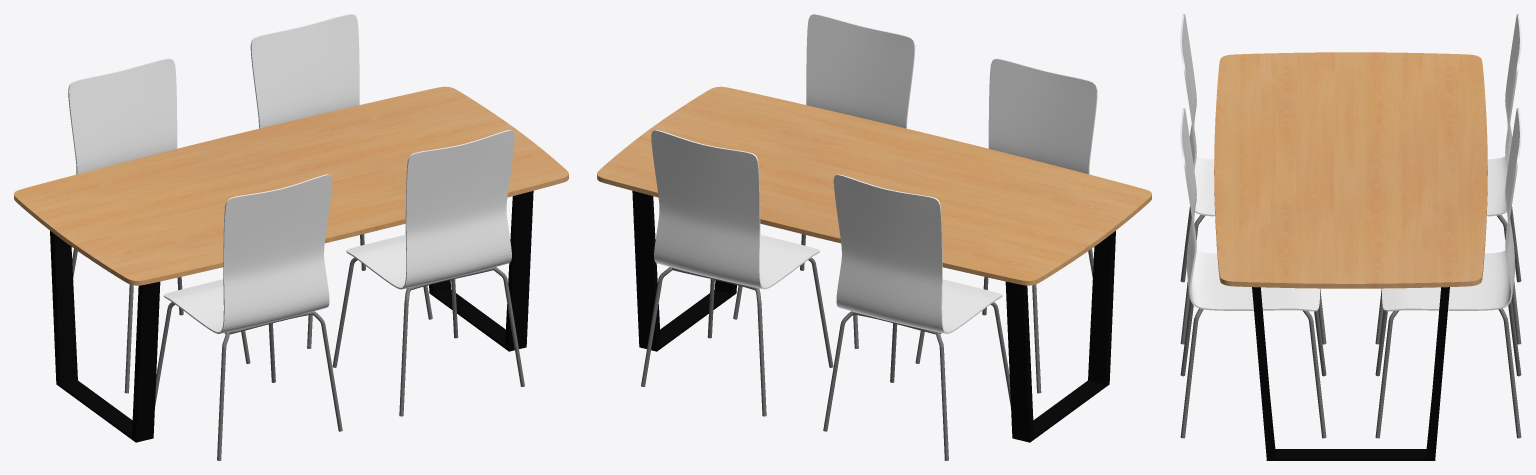
Rendered from modern_table.glb.
3 renders of one model, left to right at view 1: azimuth 30°, elevation 25°; view 2: azimuth 150°, elevation 25°; view 3: azimuth 270°, elevation 25°, orthographic. The views are drawn at different scales.
Parts seen in each view (by area): view 1: Object001_Material #1_0; view 2: Object001_Material #1_0; view 3: Object001_Material #1_0.
Part boxes in pixels (x1=…): Object001_Material #1_0: x1=14, y1=14, x2=568, y2=460; Object001_Material #1_0: x1=597, y1=14, x2=1151, y2=460; Object001_Material #1_0: x1=1180, y1=14, x2=1521, y2=460.
Size of the model in its own units: 2.08 by 1.15 by 1.29.
Materials: 1 (1 with a texture image).
